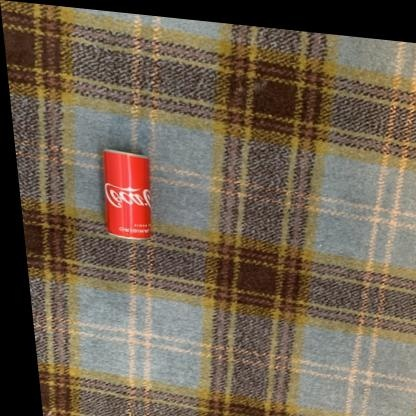trash: (103, 150, 150, 238)
